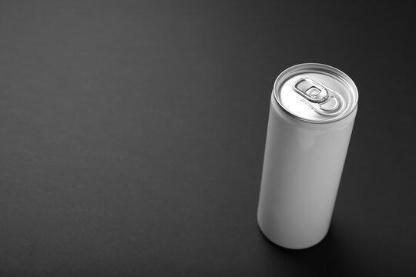Can: (256, 61, 360, 251)
